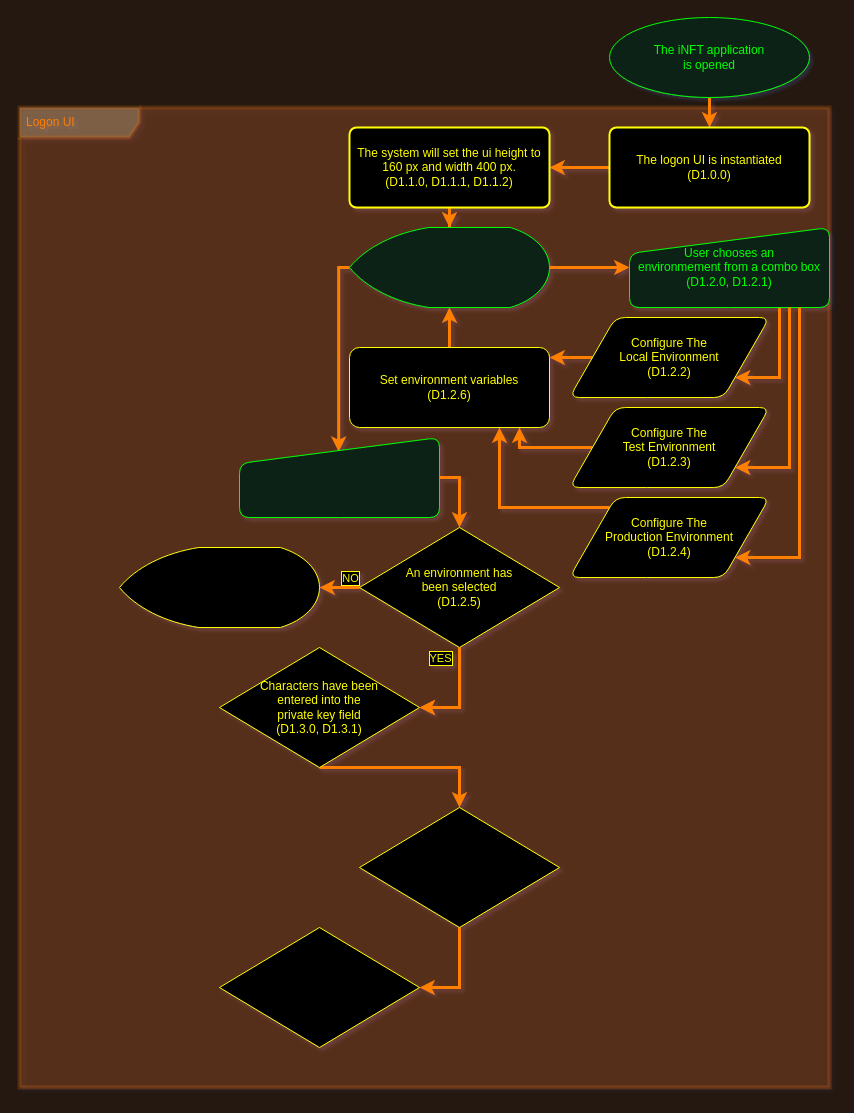
Some shapes in this 854 by 1113 pixel diagram are drawn without their labels. Each missing label, with the centre of its shape:
"All character entered in the private key field are hexidecimals (D1.3.2)" belongs at pixel 459 867.
"Is the selected network available (D1.3.3)" belongs at pixel 319 987.
"Login UI (D1.0.0)" belongs at pixel 449 267.
"System displays no environment error toast (D1.2.5)" belongs at pixel 219 587.
"User Clicks Login Button" belongs at pixel 339 477.
